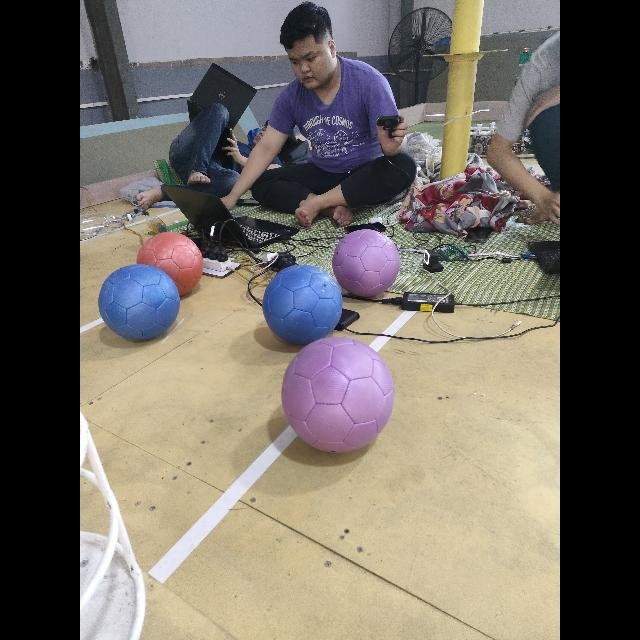B: (262, 264, 342, 344), (99, 264, 180, 340)
P: (282, 336, 394, 452), (332, 228, 400, 296)
R: (137, 232, 203, 296)
